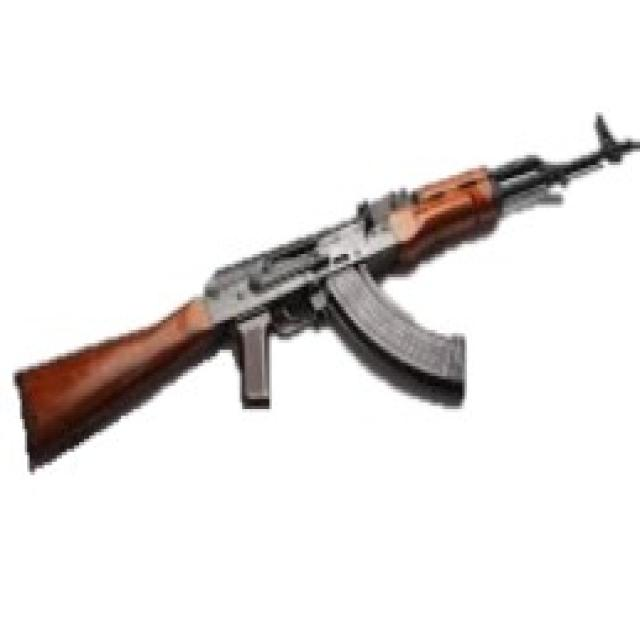rifle: (10, 110, 640, 483)
